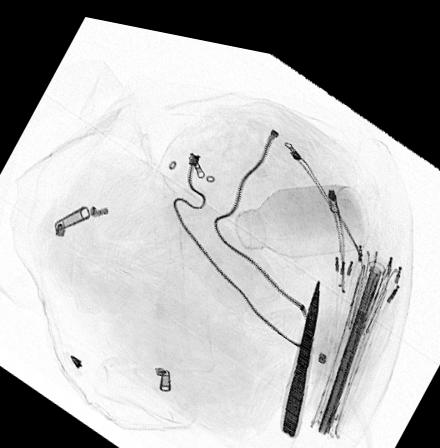Pliers: (279, 265, 321, 428)
